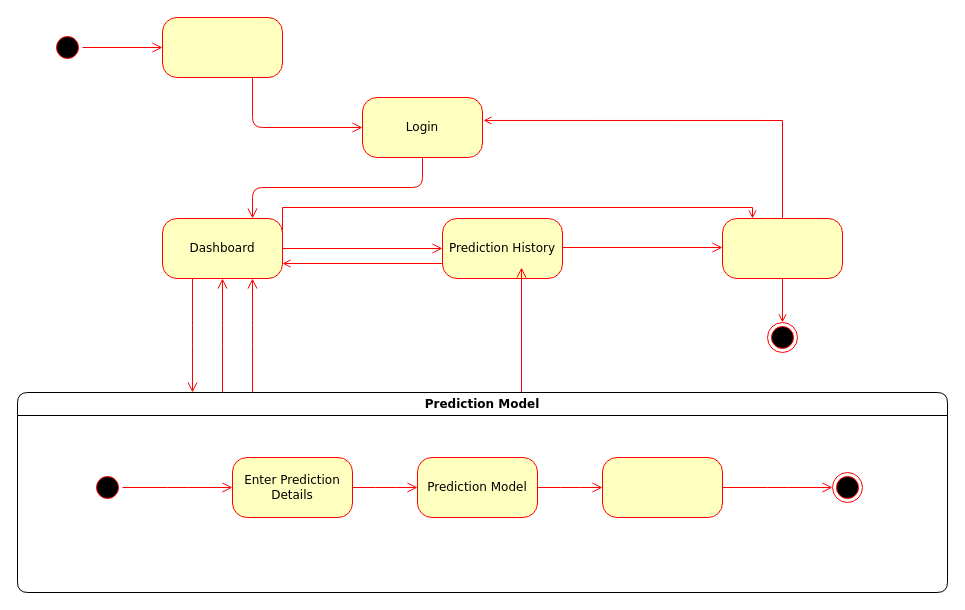
This 965x610 diagram has some shape labels left out. Each missing label, with the box of its shape:
Logout: (722, 218, 842, 278)
Predicion and Accuracy: (602, 456, 722, 518)
Register: (162, 16, 282, 78)
